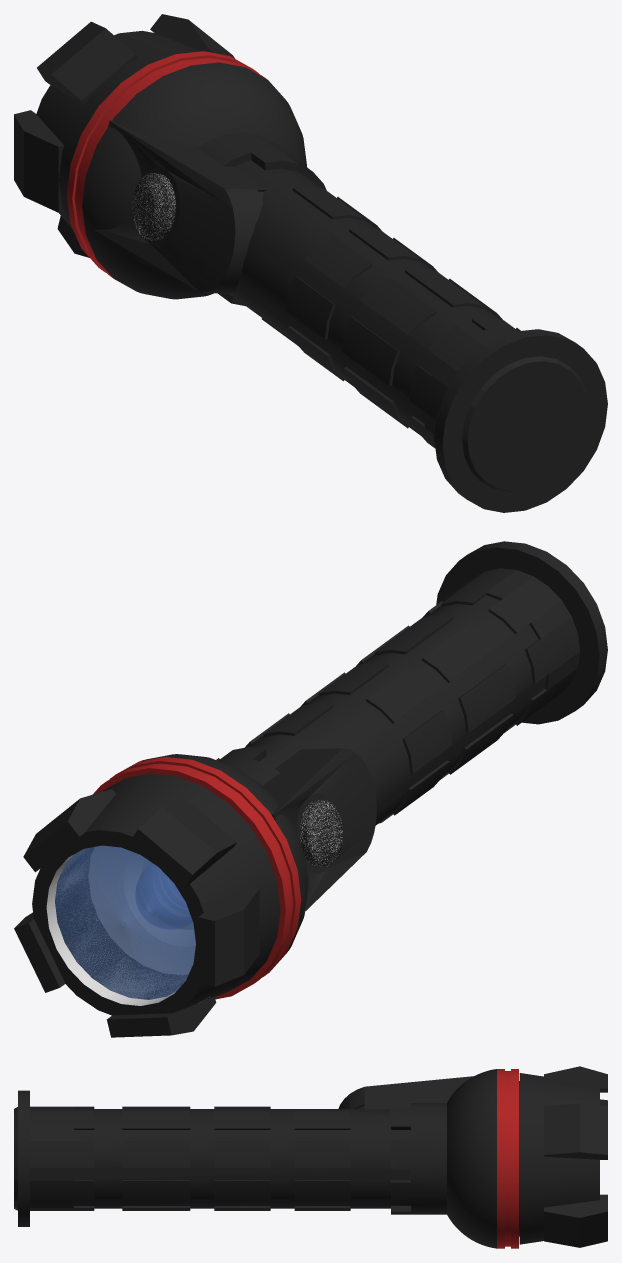
The picture shows the model from 3 angles, top to bottom: view 1: azimuth 30°, elevation 25°; view 2: azimuth 150°, elevation 25°; view 3: azimuth 270°, elevation 25°; orthographic projection. The views are drawn at different scales.
Parts seen in each view (by area): view 1: flashlight; view 2: flashlight; view 3: flashlight.
Part boxes in pixels (box(x1,y1,x2,y2)): flashlight: box(14, 14, 607, 512); flashlight: box(14, 541, 607, 1037); flashlight: box(14, 1066, 607, 1248).
Bounding box in the file's own units: 1.79 × 1.82 × 5.83.
